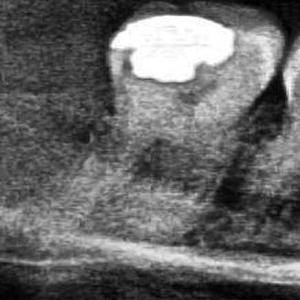tooth: (35, 0, 299, 233)
